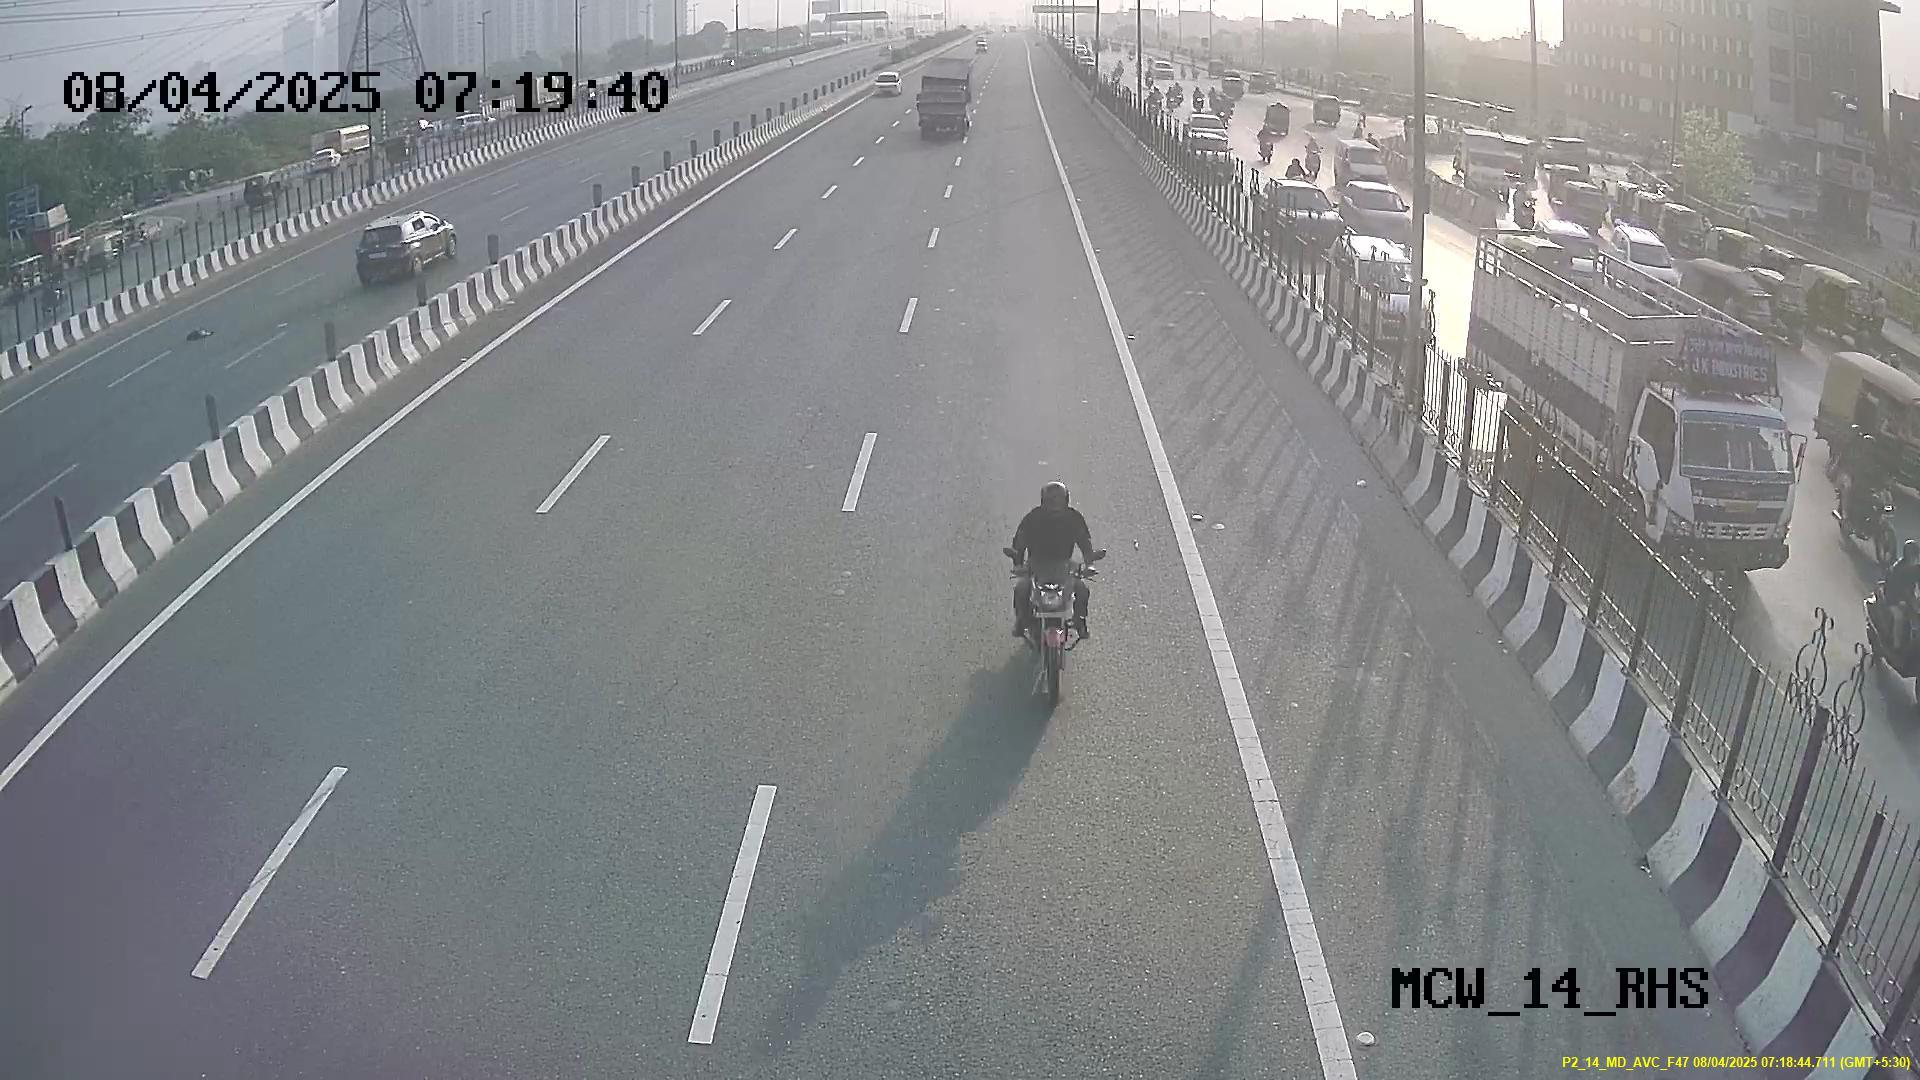bike: (988, 477, 1110, 717)
